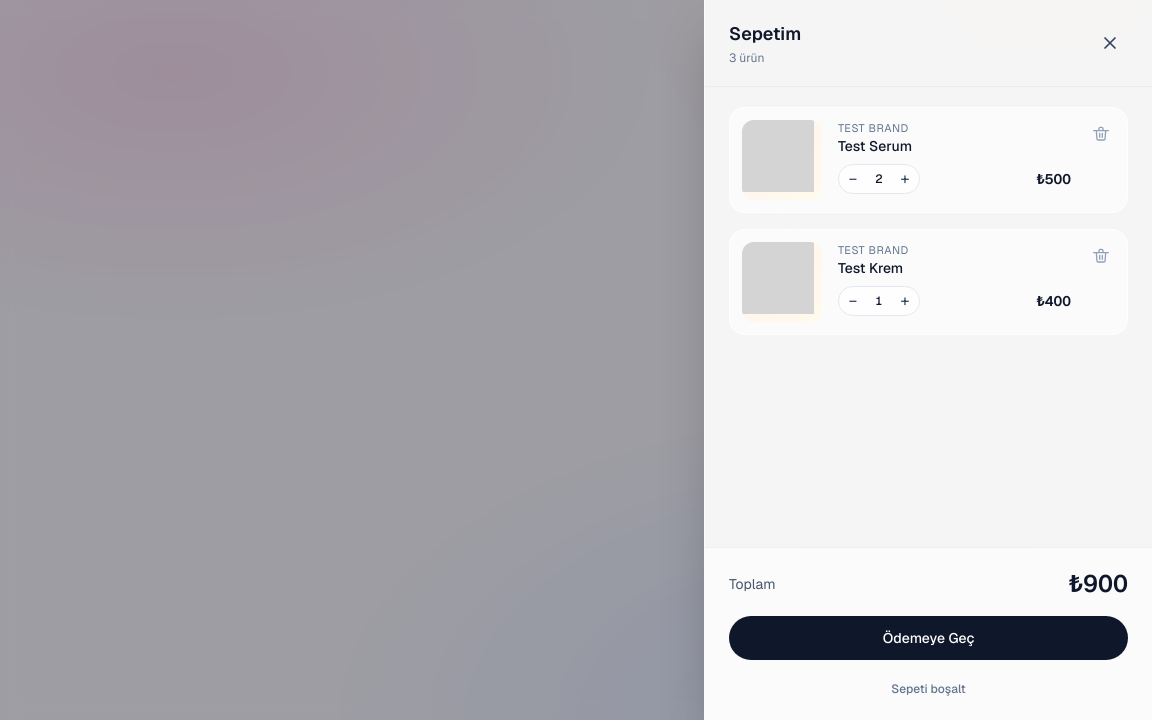
it: CartDrawer › ürünü sepetten tamamen çıkarır
The image size is (1152, 720).
Click the button named "Test Serum ürününü sepetten çıkar".
click(1101, 134)  # box [1087, 120, 1115, 148]
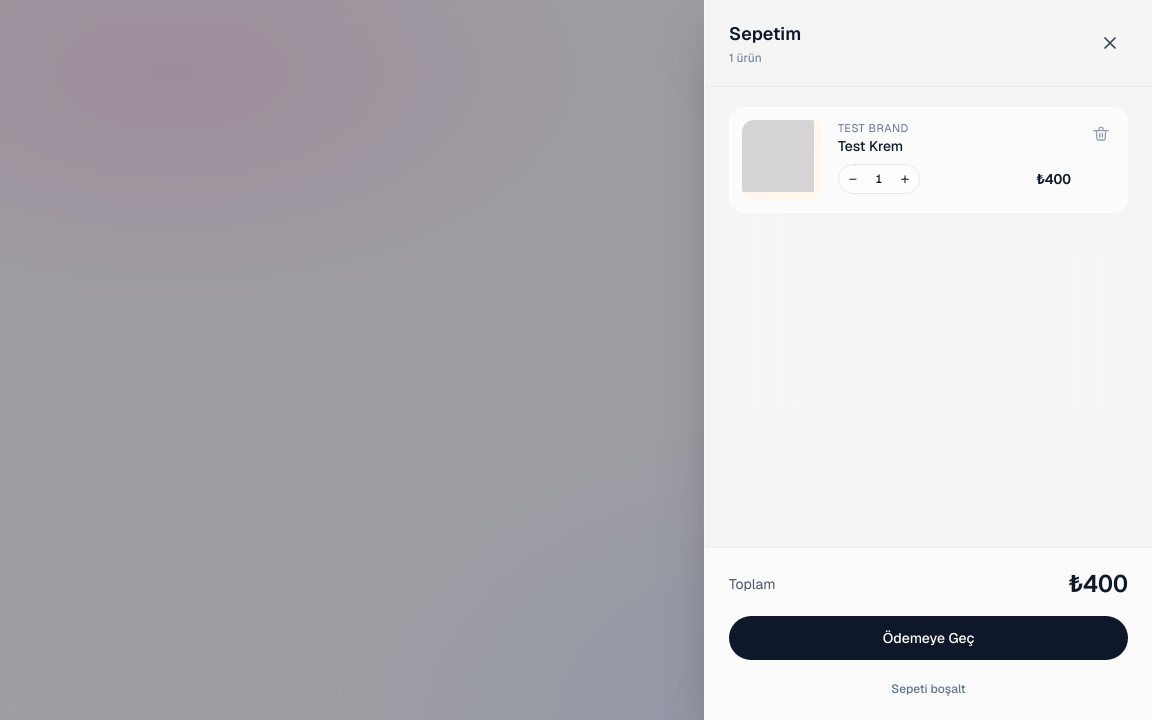
Check: the heading "Test Serum" is gone
